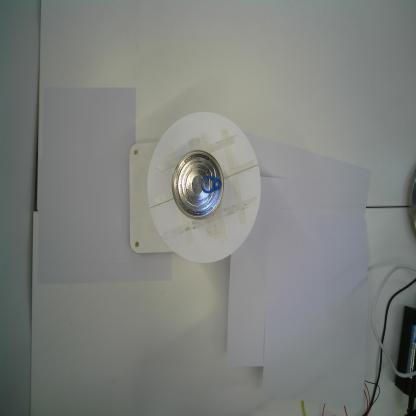Canned Food: (172, 150, 224, 220)
